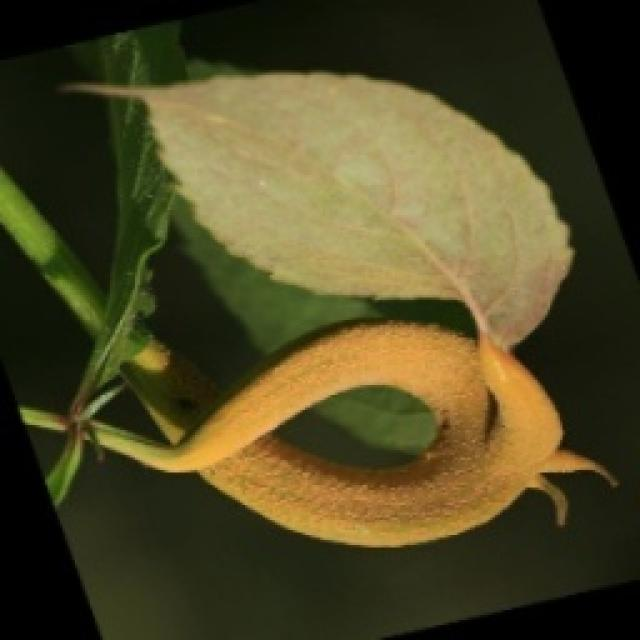Elderberry_rust: (178, 290, 571, 561)
